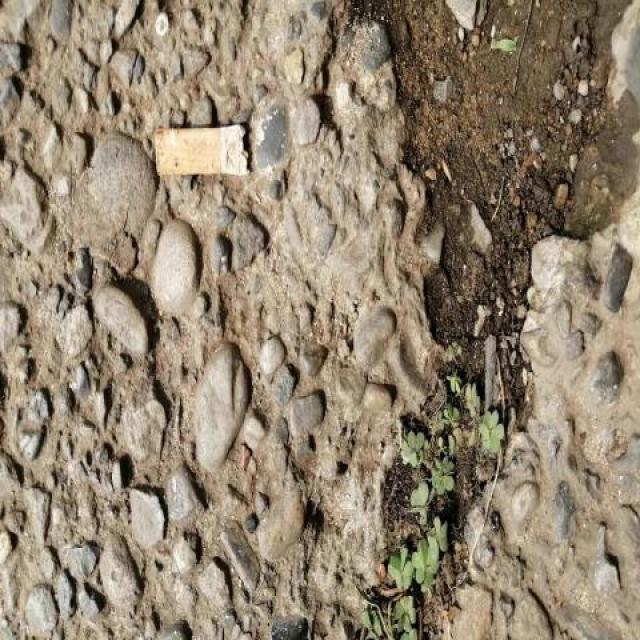non-organic waste: (146, 116, 258, 183)
